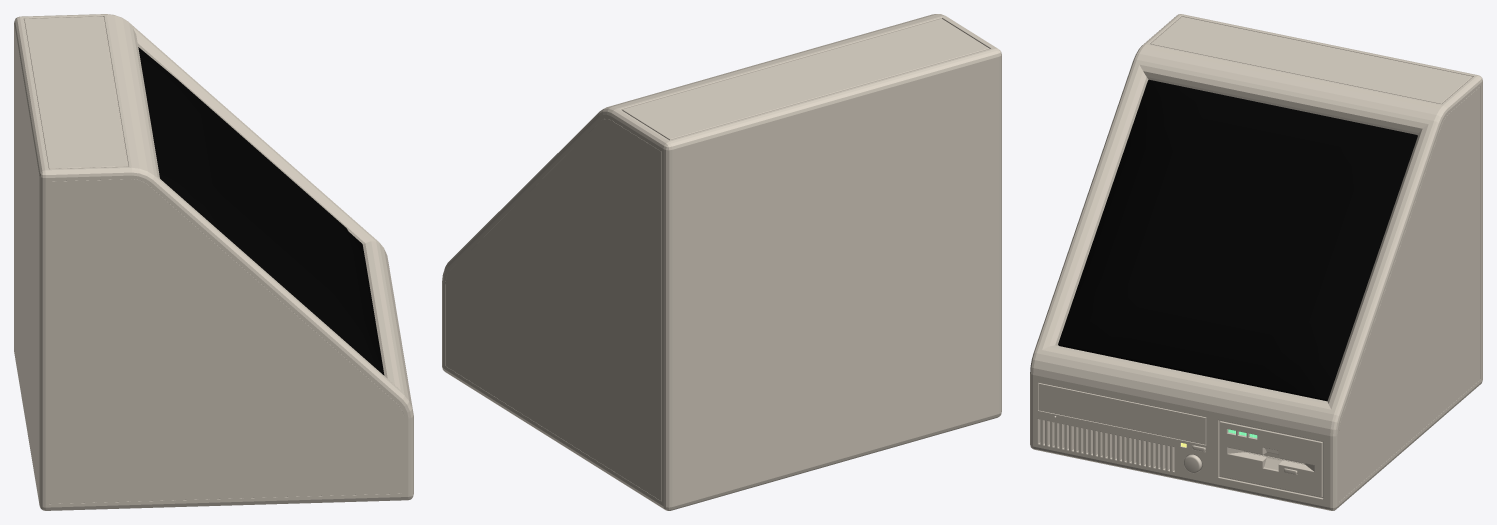
The model's file is monitor do daru.fbx.
The picture shows the model from 3 angles, left to right: view 1: azimuth 30°, elevation 25°; view 2: azimuth 150°, elevation 25°; view 3: azimuth 270°, elevation 25°; orthographic projection. The views are drawn at different scales.
Parts seen in each view (by area): view 1: Object_6, Object_4; view 2: Object_6; view 3: Object_6, Object_4.
Boxes of the visible parts, x1=… form: Object_6: x1=14, y1=14, x2=413, y2=510; Object_4: x1=138, y1=47, x2=384, y2=375; Object_6: x1=442, y1=14, x2=1001, y2=510; Object_6: x1=1030, y1=14, x2=1482, y2=510; Object_4: x1=1058, y1=79, x2=1417, y2=401.
Bounding box in the file's own units: 81.55 × 61.47 × 81.55.
